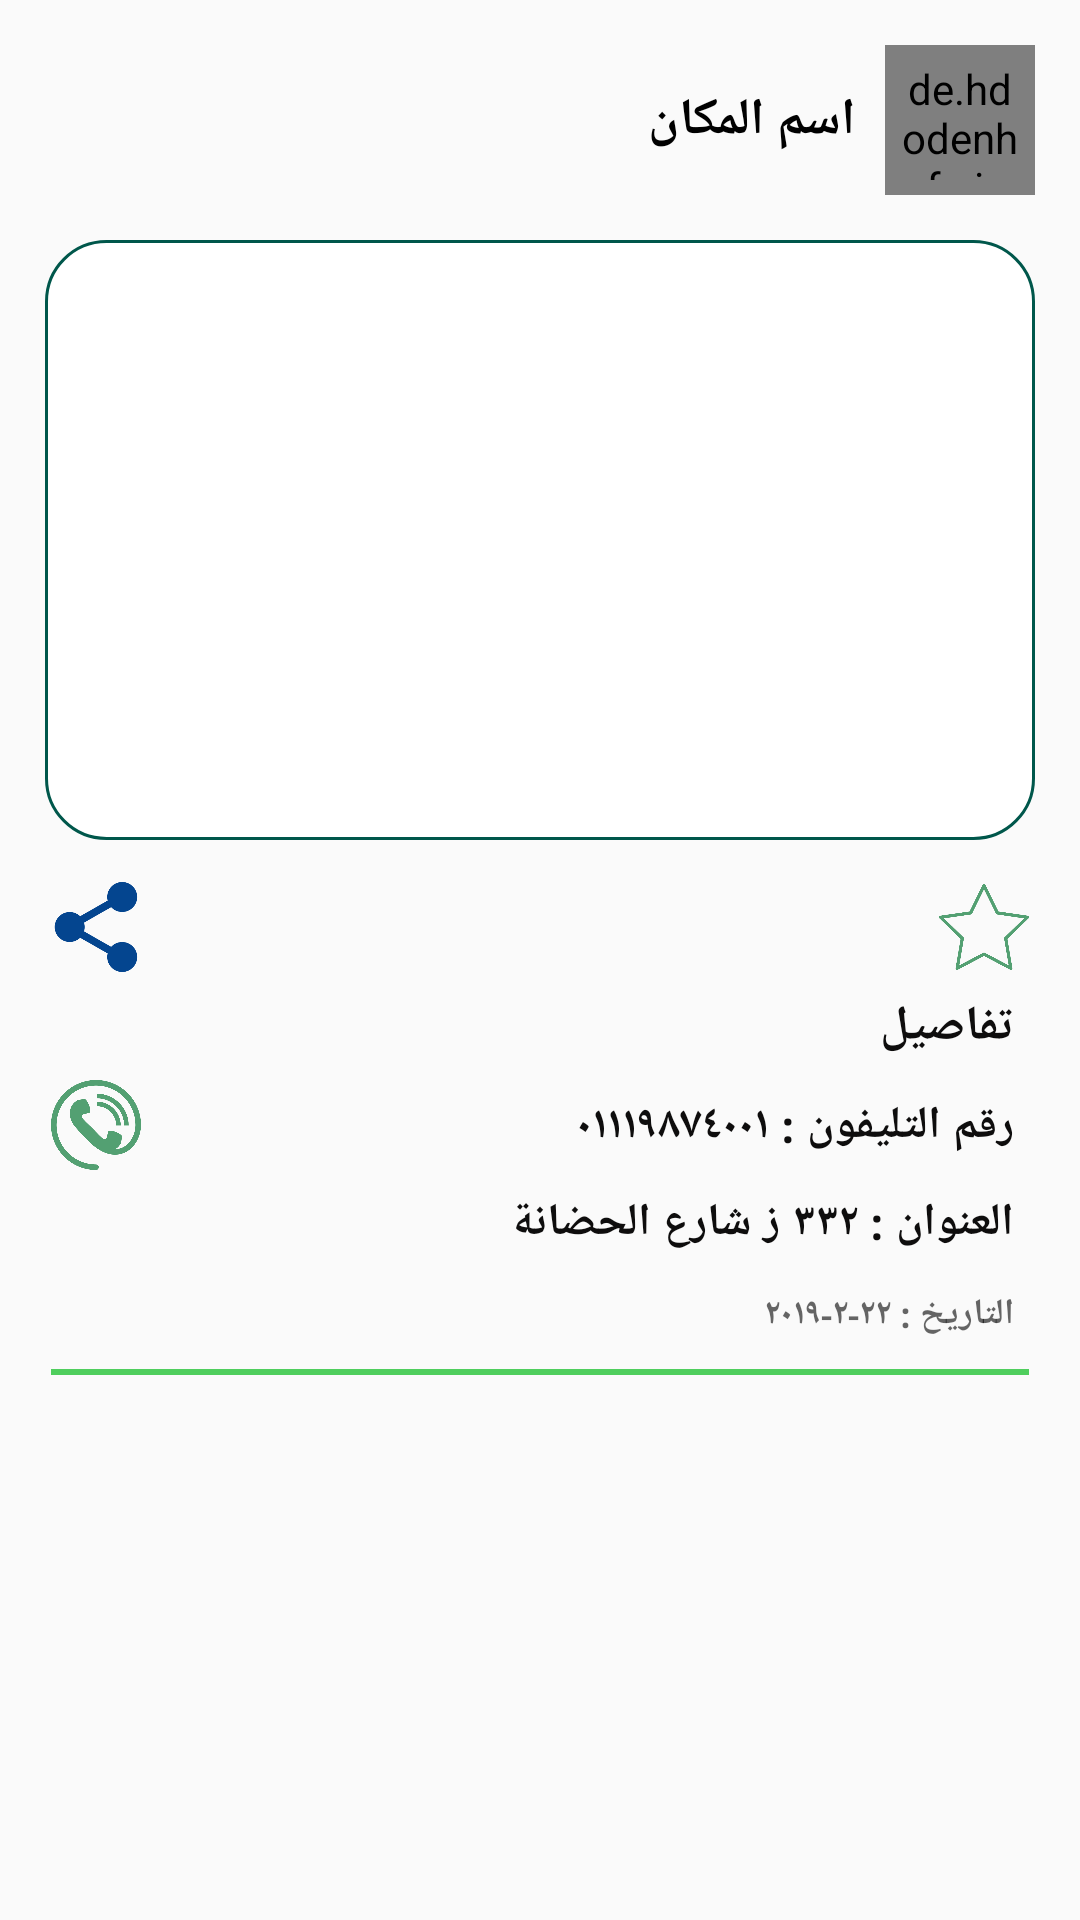

Icon bounding boxes for this 1080x1920 phone screenshot, format (x1, y1, x2, y2):
call menu: (51, 1080, 141, 1170)
share: (54, 882, 137, 972)
stargreen: (939, 884, 1029, 970)
